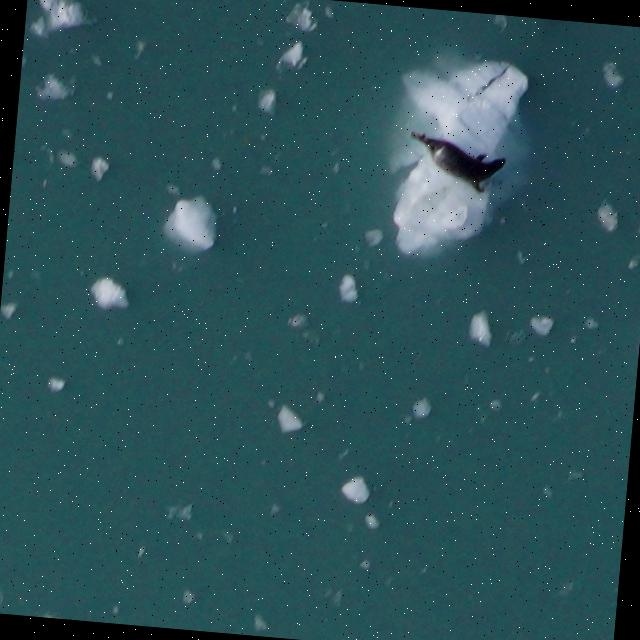seal: (402, 125, 510, 198)
